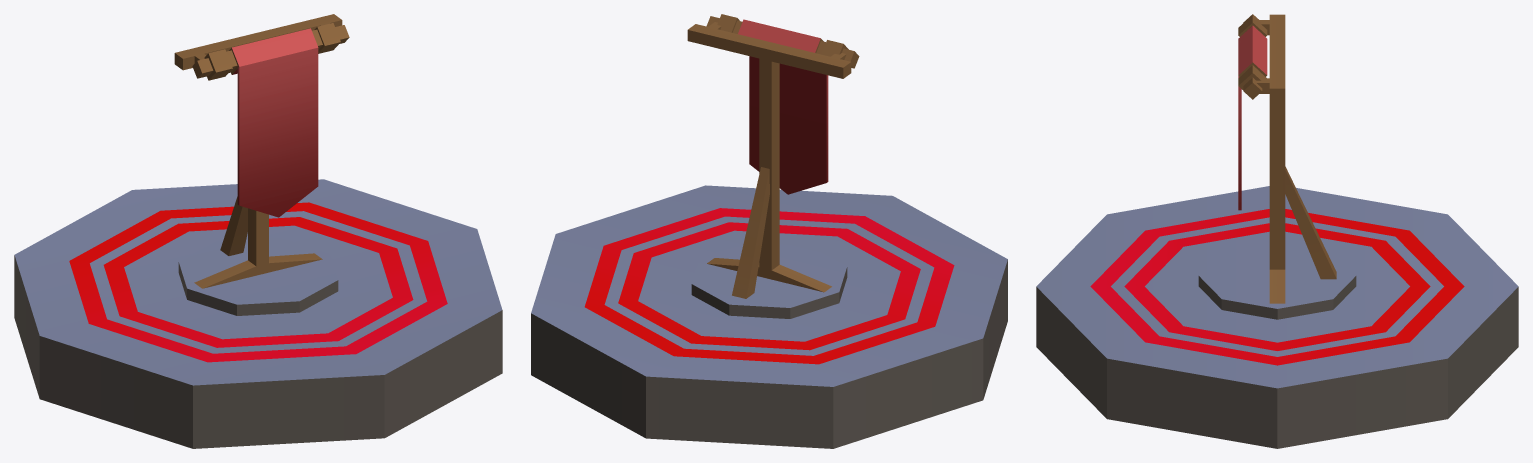
File: Building Point.fbx
3 views of the same model, side by side, from view 1: azimuth 30°, elevation 25°; view 2: azimuth 150°, elevation 25°; view 3: azimuth 270°, elevation 25° (orthographic). The views are drawn at different scales.
Parts seen in each view (by area): view 1: Cube; view 2: Cube; view 3: Cube.
Boxes of the visible parts, x1,y1,x2,y2 form: Cube: (14, 14, 502, 448); Cube: (531, 14, 1007, 448); Cube: (1036, 14, 1518, 448).
Size of the model in its own units: 1195 by 829 by 1195.
